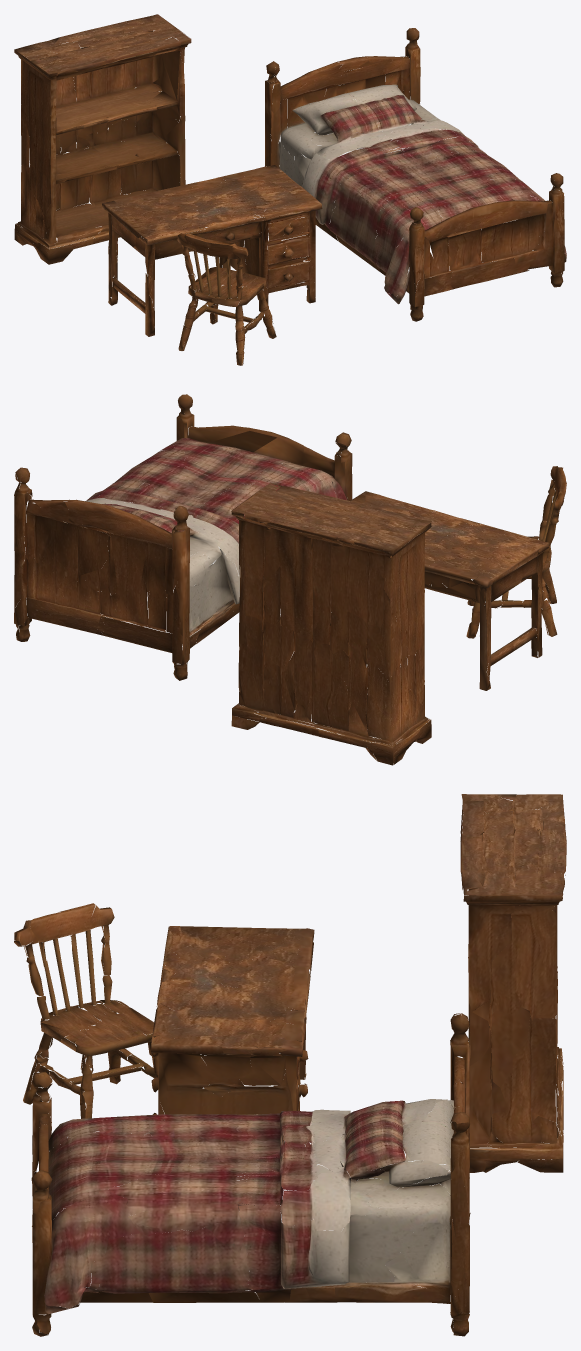
Rendered from murph-room.glb.
3 renders of one model, top to bottom at view 1: azimuth 30°, elevation 25°; view 2: azimuth 150°, elevation 25°; view 3: azimuth 270°, elevation 25°, orthographic. The views are drawn at different scales.
Visible parts, largest first — view 1: murph-room; view 2: murph-room; view 3: murph-room.
Boxes of the visible parts, x1,y1,x2,y2 form: murph-room: [14, 14, 566, 365]; murph-room: [14, 394, 566, 765]; murph-room: [14, 794, 566, 1336].
Bounding box in the file's own units: 3.57 × 1.75 × 3.08.
1 material, 1 textured.
